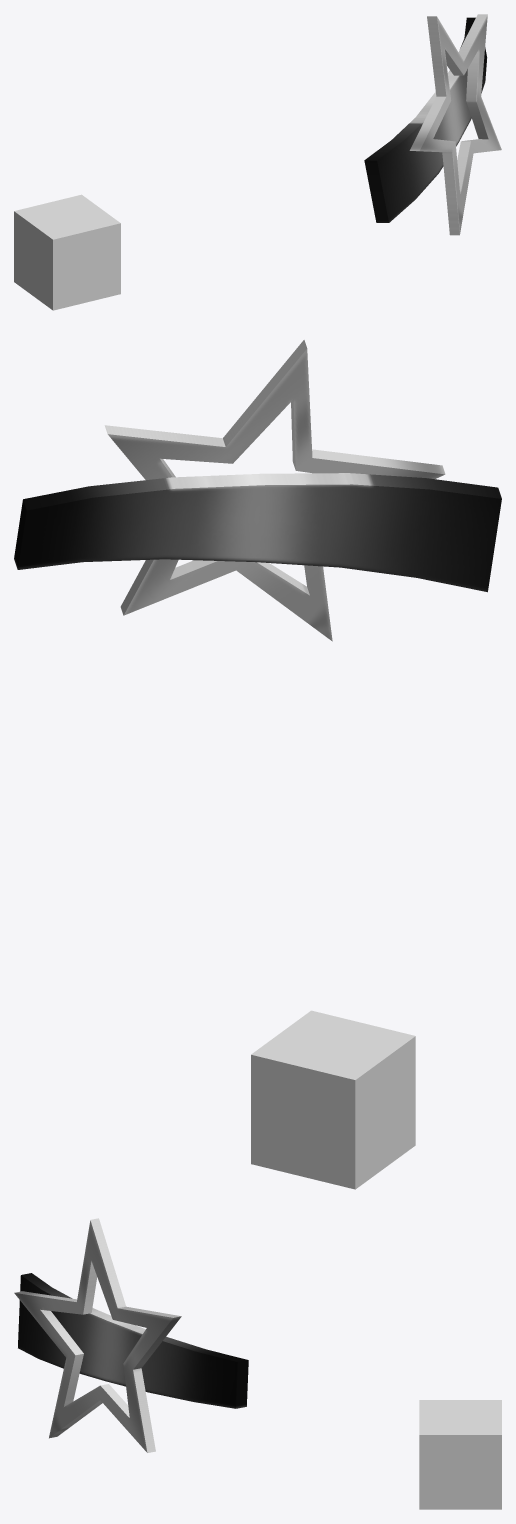
File: ribbon5_girl.FBX
3 views of the same model, one above another, from view 1: azimuth 30°, elevation 25°; view 2: azimuth 150°, elevation 25°; view 3: azimuth 270°, elevation 25° (orthographic). The views are drawn at different scales.
Visible parts, largest first — view 1: girl_ribbon14, faceSpawn; view 2: girl_ribbon14, faceSpawn; view 3: girl_ribbon14, faceSpawn.
Part boxes in pixels (left/top/right/bottom): girl_ribbon14: left=364, top=14, right=501, bottom=235; faceSpawn: left=14, top=194, right=120, bottom=310; girl_ribbon14: left=14, top=340, right=501, bottom=641; faceSpawn: left=251, top=1010, right=415, bottom=1189; girl_ribbon14: left=14, top=1218, right=248, bottom=1452; faceSpawn: left=419, top=1400, right=501, bottom=1509.
Size of the model in its own units: 25.62 by 24.87 by 29.53.
